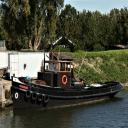tugboat: (11, 57, 127, 115)
